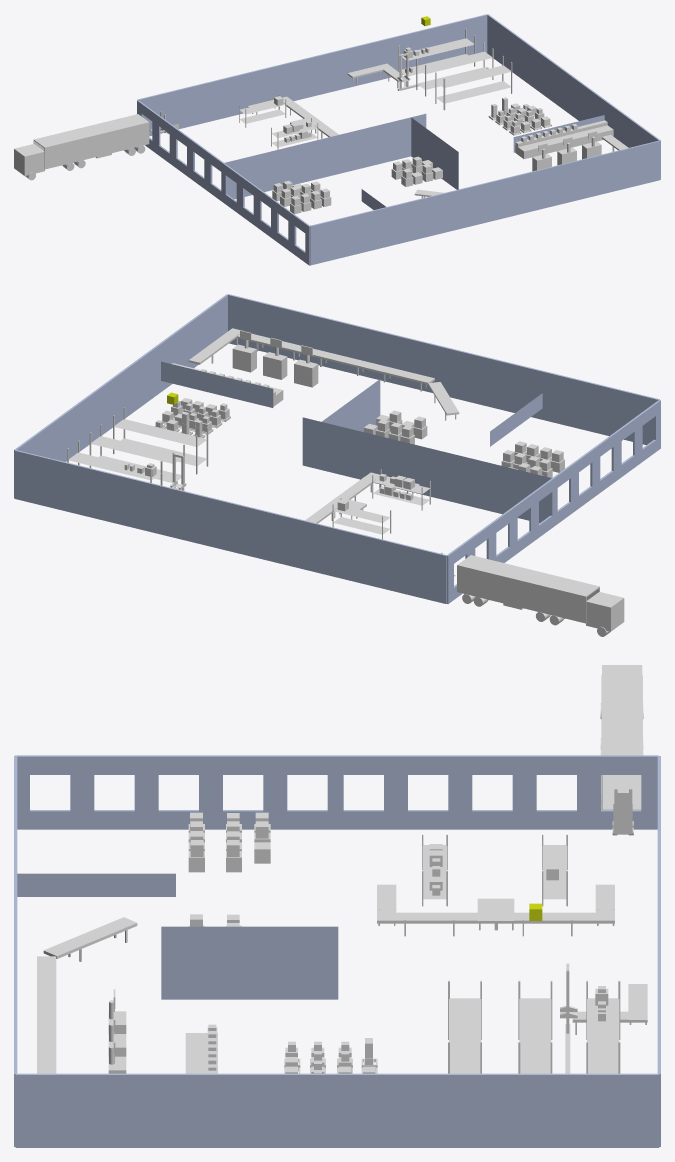
The model's file is warehouse.glb.
The picture shows the model from 3 angles, top to bottom: view 1: azimuth 30°, elevation 25°; view 2: azimuth 150°, elevation 25°; view 3: azimuth 270°, elevation 25°; orthographic projection. The views are drawn at different scales.
Parts seen in each view (by area): view 1: Building, Cube.005, Packing zone, Cube.002, Cube.001, Cube, Cube.003, Cube.024, Cube.023; view 2: Building, Cube.005, Packing zone, Cube.002, Cube.001, Cube.003, Cube, Cube.024, Cube.023, Cube.084, Cube.087, Cube.086 (+1 smaller); view 3: Building, Cube.005, Cube.001, Cube.002, Cube, Packing zone, Cube.088, Cube.024, Cube.021, Cube.023, Cube.086, Cube.087 (+6 smaller).
Part boxes in pixels (<box>): Building: <box>137,14,660,265</box>; Cube.005: <box>33,114,149,169</box>; Packing zone: <box>515,120,613,171</box>; Cube.002: <box>435,56,512,110</box>; Cube.001: <box>416,42,493,96</box>; Cube: <box>398,28,475,76</box>; Cube.003: <box>14,144,44,175</box>; Cube.024: <box>239,94,286,127</box>; Cube.023: <box>271,117,318,149</box>; Building: <box>14,294,660,603</box>; Cube.005: <box>457,555,599,623</box>; Packing zone: <box>172,330,318,406</box>; Cube.002: <box>113,407,208,474</box>; Cube.001: <box>89,424,184,482</box>; Cube.003: <box>586,592,624,631</box>; Cube: <box>67,440,162,485</box>; Cube.024: <box>332,498,391,539</box>; Cube.023: <box>372,469,430,510</box>; Cube.084: <box>188,328,241,364</box>; Cube.087: <box>364,363,434,391</box>; Cube.086: <box>301,348,370,375</box>; Building: <box>14,755,660,1147</box>; Cube.005: <box>601,675,642,809</box>; Cube.001: <box>518,980,552,1073</box>; Cube.002: <box>448,980,481,1073</box>; Cube: <box>586,980,620,1073</box>; Packing zone: <box>108,989,217,1073</box>; Cube.088: <box>43,917,137,961</box>; Cube.024: <box>542,834,567,906</box>; Cube.021: <box>394,912,477,936</box>; Cube.023: <box>422,834,447,906</box>; Cube.086: <box>37,1003,56,1050</box>; Cube.087: <box>37,956,56,1002</box>.
Bounding box in the file's own units: 64.16 × 10.63 × 40.21.
